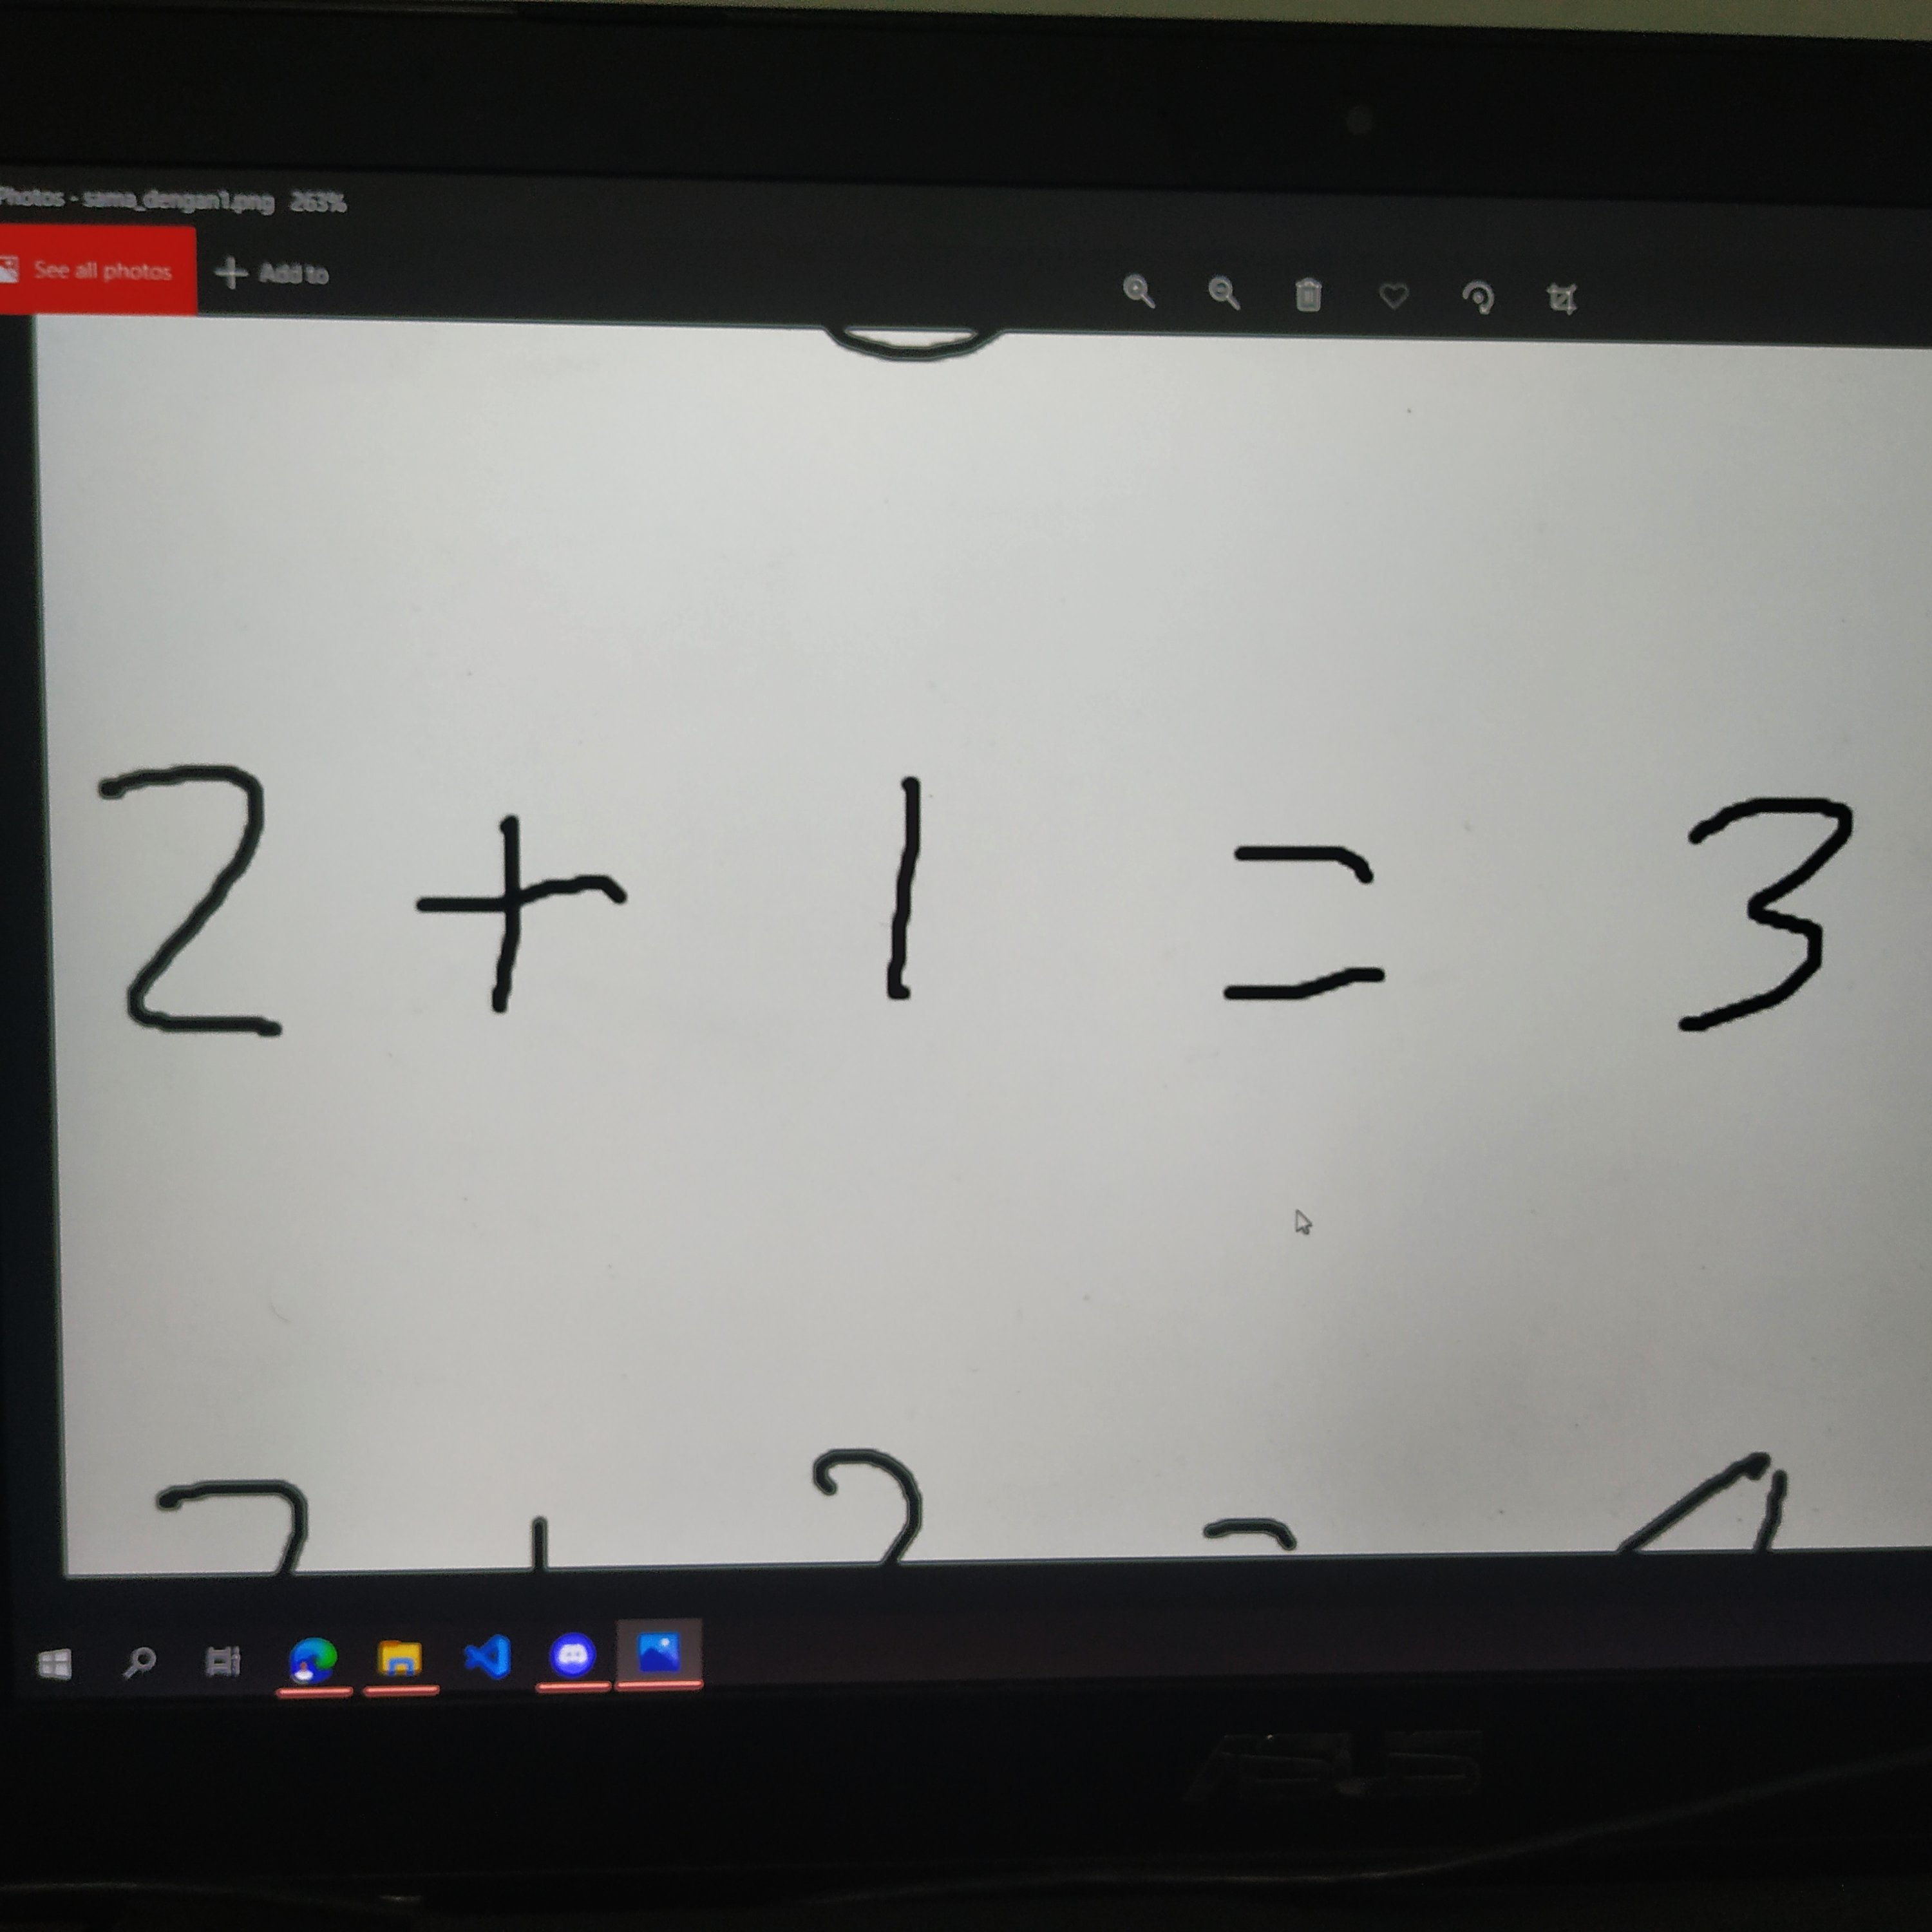equal: (1187, 816, 1442, 1020)
num1: (844, 762, 972, 1016)
num2: (69, 744, 343, 1068)
num3: (1633, 773, 1872, 1066)
sum: (404, 800, 661, 1041)
